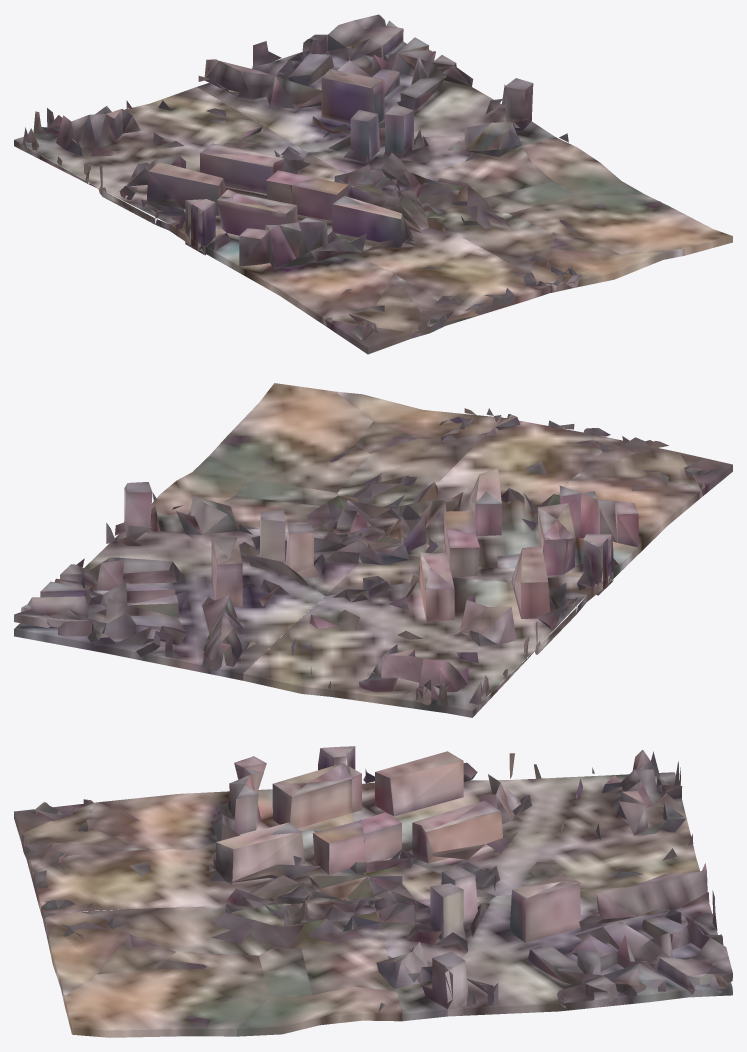
The picture shows the model from 3 angles, top to bottom: view 1: azimuth 30°, elevation 25°; view 2: azimuth 150°, elevation 25°; view 3: azimuth 270°, elevation 25°; orthographic projection. The views are drawn at different scales.
Parts seen in each view (by area): view 1: Mesh_0; view 2: Mesh_0; view 3: Mesh_0.
Boxes of the visible parts, <box> form: Mesh_0: <box>14,14,732,354</box>; Mesh_0: <box>14,383,732,717</box>; Mesh_0: <box>14,746,732,1037</box>.
Size of the model in its own units: 533 by 69.31 by 659.
Materials: 1 (1 with a texture image).
